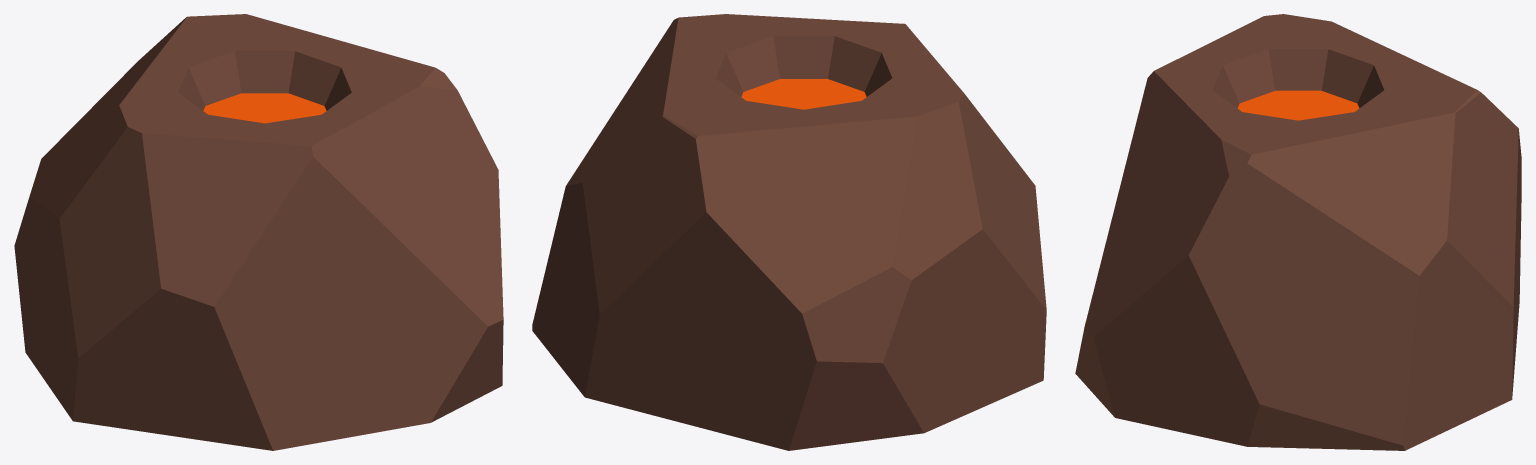
Rendered from CraterBoulder.fbx.
3 renders of one model, left to right at view 1: azimuth 30°, elevation 25°; view 2: azimuth 150°, elevation 25°; view 3: azimuth 270°, elevation 25°, orthographic. The views are drawn at different scales.
Visible parts, largest first — view 1: CraterBoulder, CraterBoulder_Pool; view 2: CraterBoulder, CraterBoulder_Pool; view 3: CraterBoulder, CraterBoulder_Pool.
Boxes of the visible parts, x1,y1,x2,y2 form: CraterBoulder: [14, 14, 503, 450]; CraterBoulder_Pool: [203, 93, 326, 123]; CraterBoulder: [532, 14, 1046, 450]; CraterBoulder_Pool: [741, 79, 866, 109]; CraterBoulder: [1075, 14, 1521, 450]; CraterBoulder_Pool: [1237, 90, 1359, 120].
Size of the model in its own units: 22.11 by 13.2 by 20.21.
